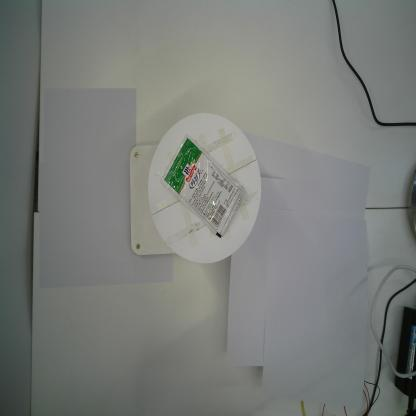Seasoner: (160, 135, 244, 239)
